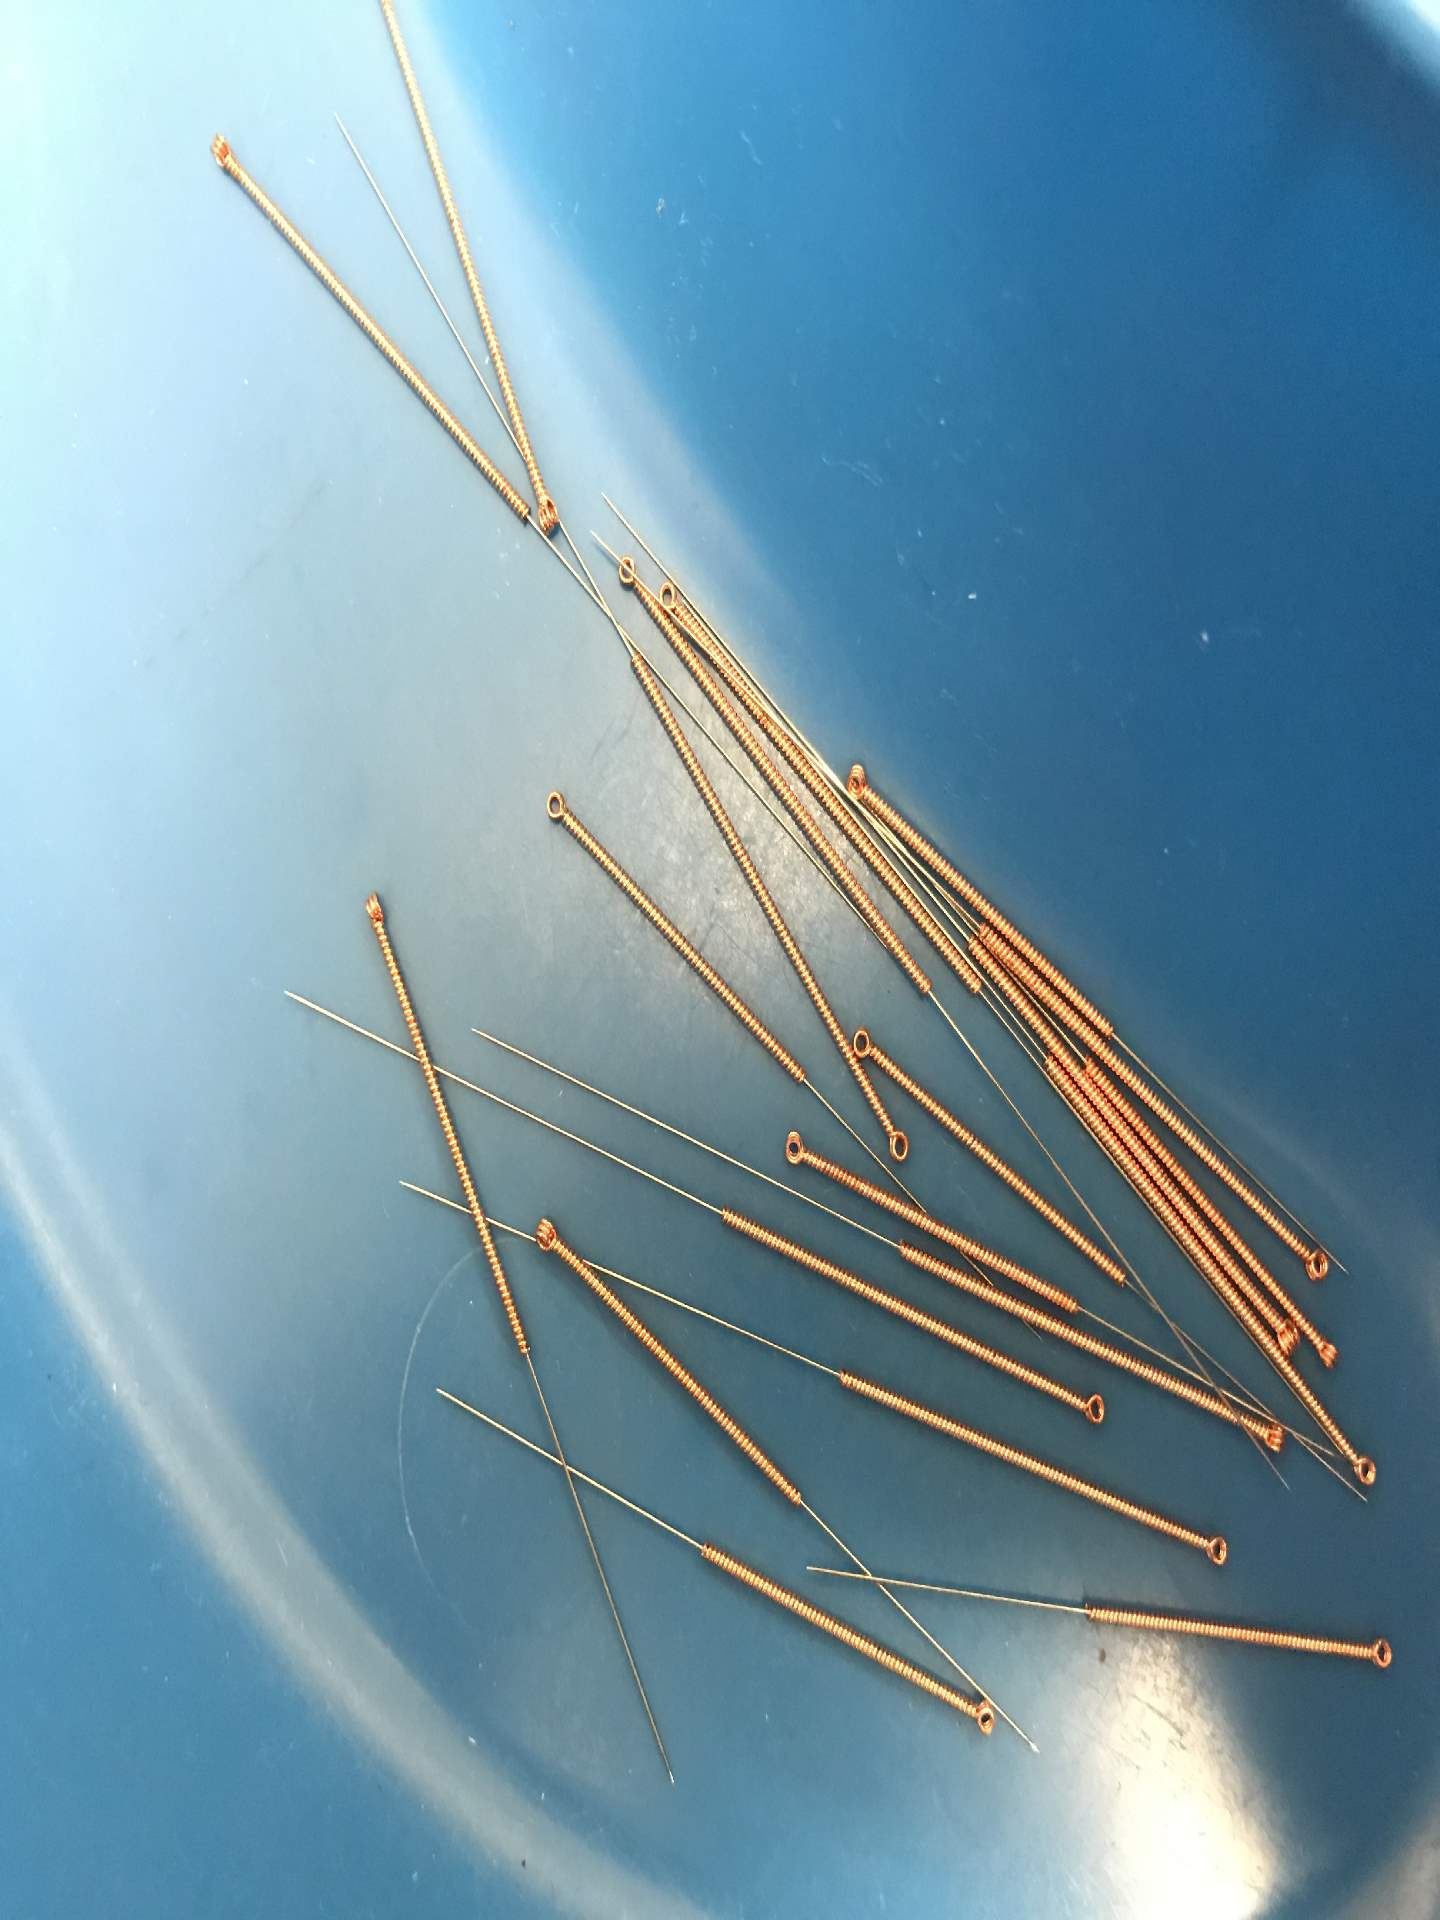needle: (197, 122, 247, 180), (1355, 1624, 1404, 1683), (349, 881, 396, 939), (1289, 1234, 1339, 1287), (1193, 1522, 1240, 1578), (959, 1692, 1006, 1745), (523, 1209, 572, 1259), (771, 1120, 817, 1173), (532, 782, 579, 831), (876, 1119, 920, 1172), (1069, 1383, 1113, 1435), (1340, 1445, 1386, 1494), (1249, 1414, 1293, 1459), (836, 759, 880, 804), (1307, 1329, 1348, 1376), (531, 491, 567, 540), (610, 549, 644, 596), (1272, 1315, 1307, 1361), (849, 1022, 885, 1063), (655, 578, 682, 614)
